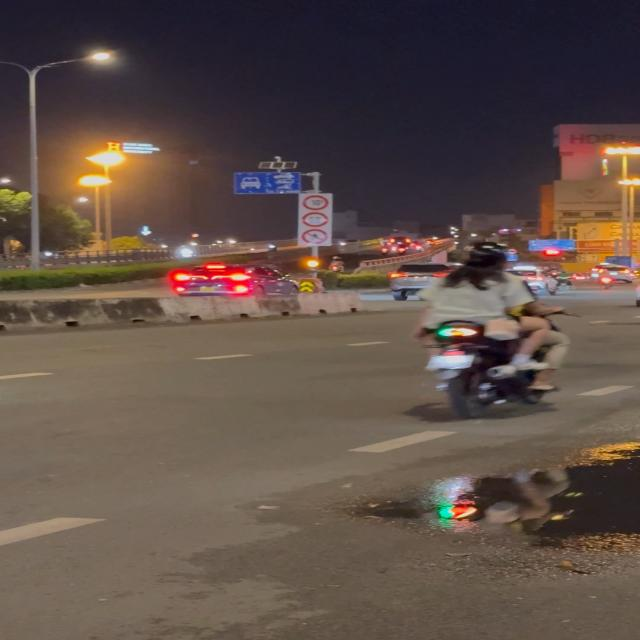Bien bao cam nguoi di bo: (301, 229, 329, 245)
Bien bao toc do toi da cho phep: (302, 211, 330, 229)
